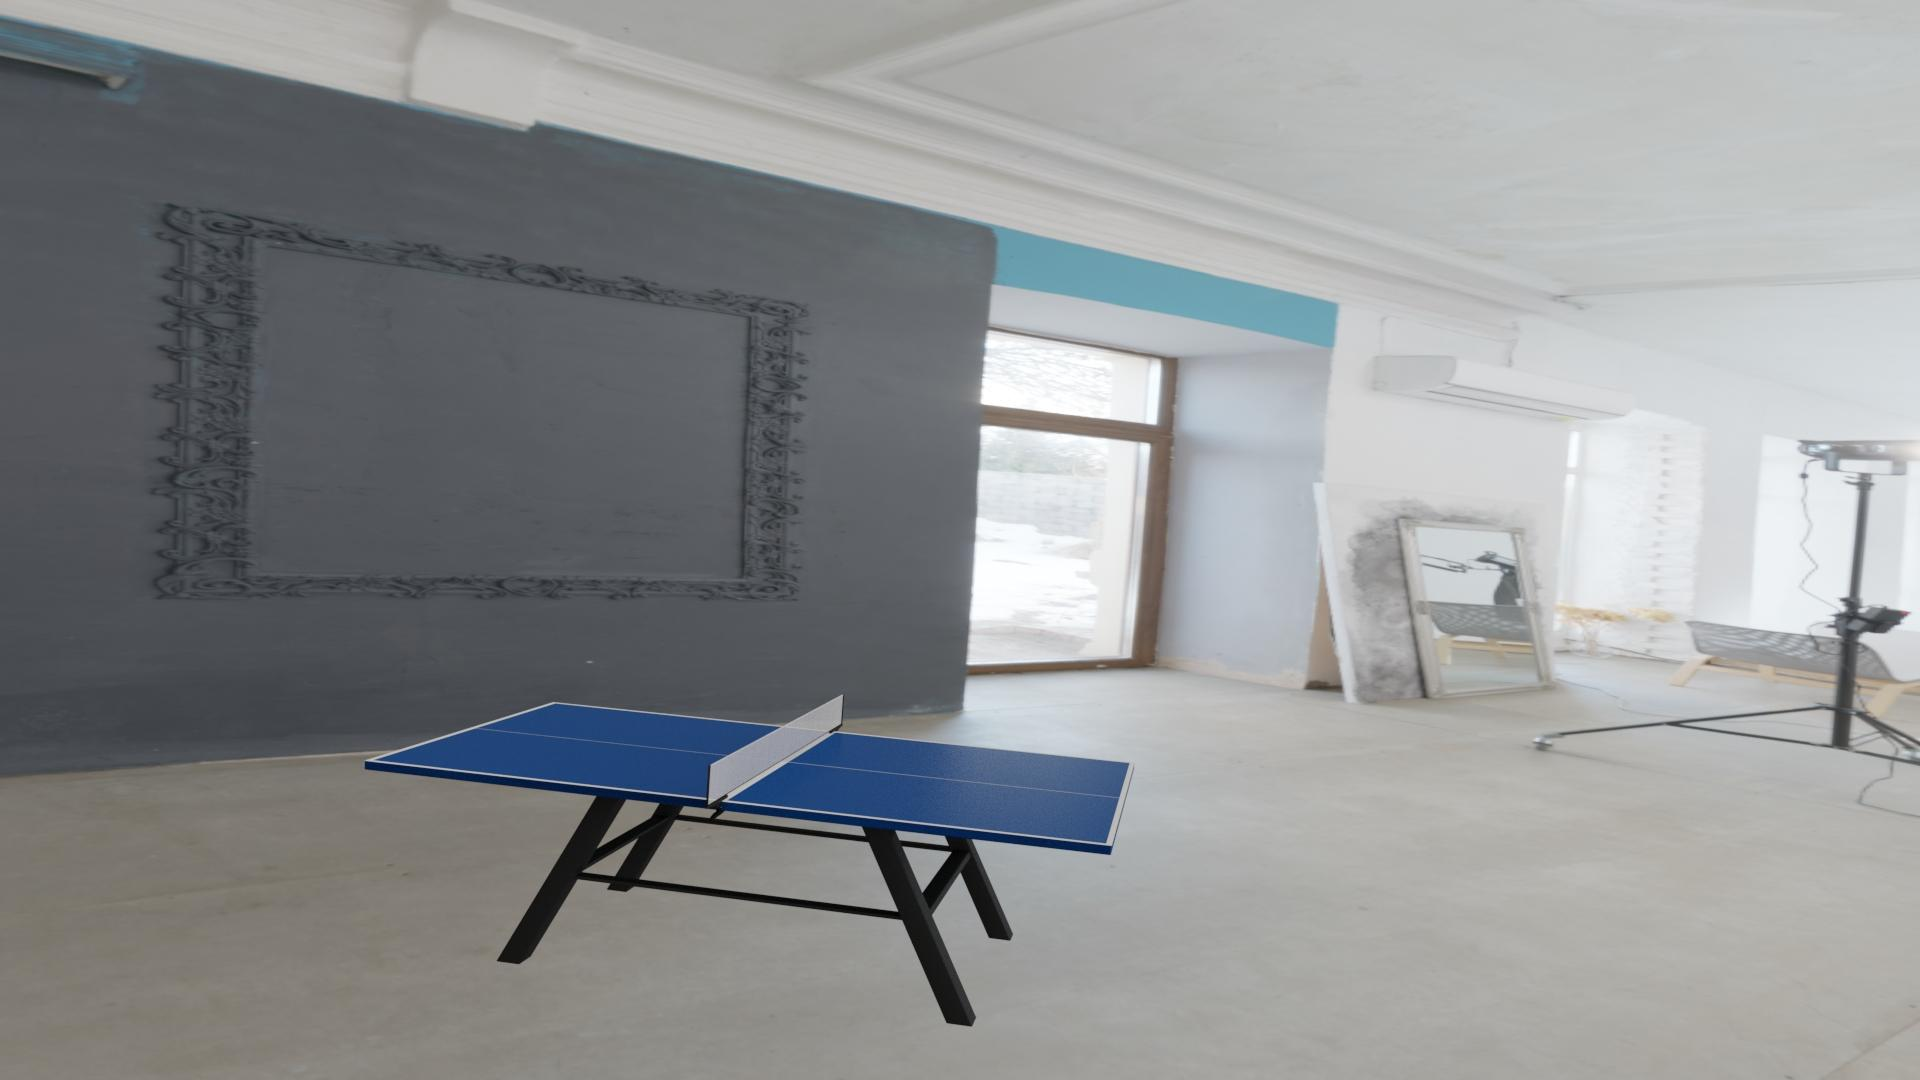table: (372, 703, 1130, 844)
